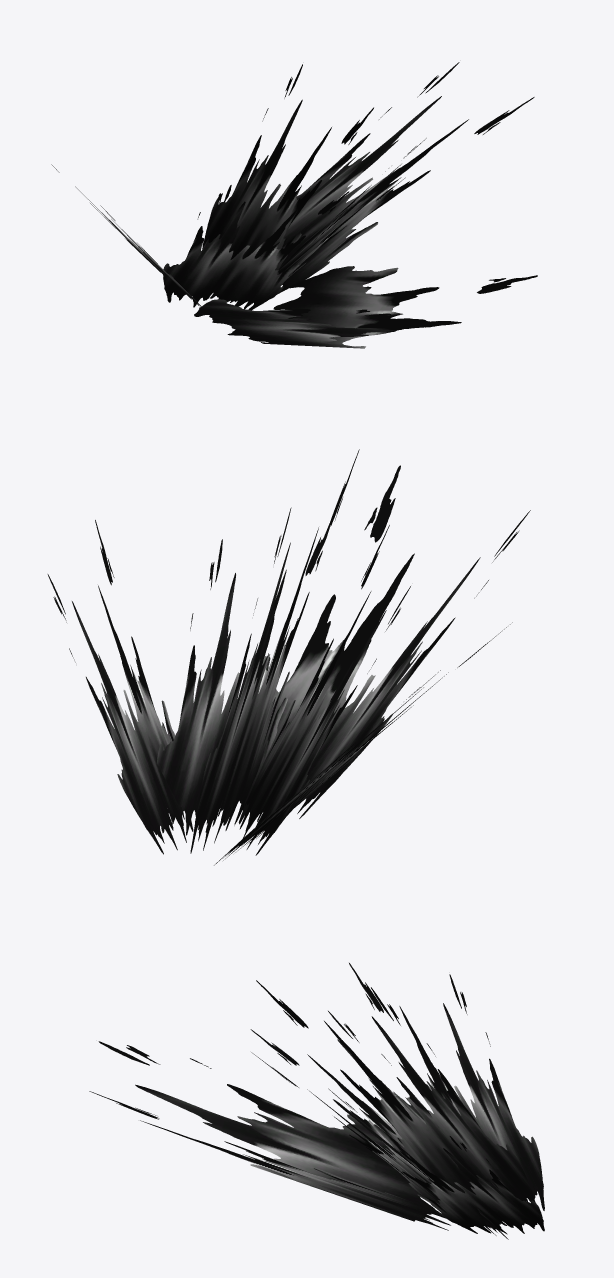
The model's file is shockwave02.fbx.
3 renders of one model, top to bottom at view 1: azimuth 30°, elevation 25°; view 2: azimuth 150°, elevation 25°; view 3: azimuth 270°, elevation 25°, orthographic. The views are drawn at different scales.
Visible parts, largest first — view 1: shockwave02; view 2: shockwave02; view 3: shockwave02.
Part boxes in pixels (<box>): shockwave02: <box>51,62,537,348</box>; shockwave02: <box>47,449,530,865</box>; shockwave02: <box>89,963,544,1239</box>.
Bounding box in the file's own units: 4.3 × 3.05 × 5.47.
